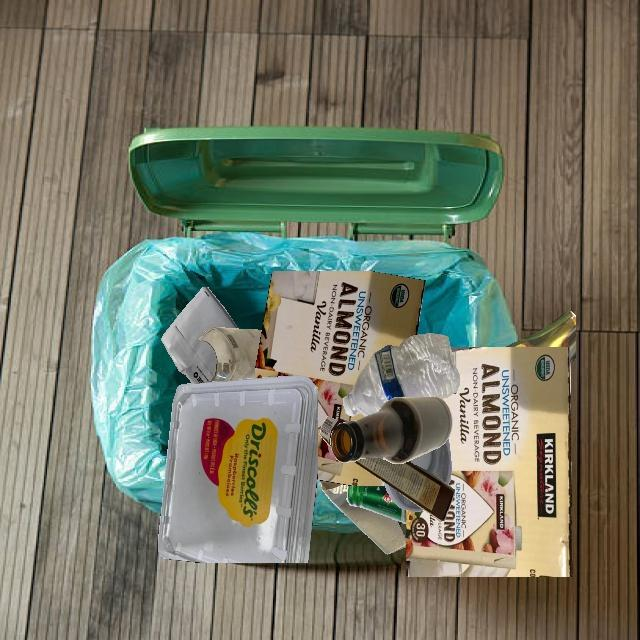cardboard: (406, 347, 572, 577), (255, 271, 425, 486), (317, 479, 406, 555), (353, 458, 455, 522)
glass: (330, 397, 452, 464), (505, 311, 576, 364), (199, 327, 262, 382), (347, 485, 406, 524)
paper: (161, 287, 238, 384)
plastic: (158, 376, 318, 563), (343, 333, 460, 417), (410, 438, 452, 485), (384, 481, 424, 512), (314, 480, 317, 502)
